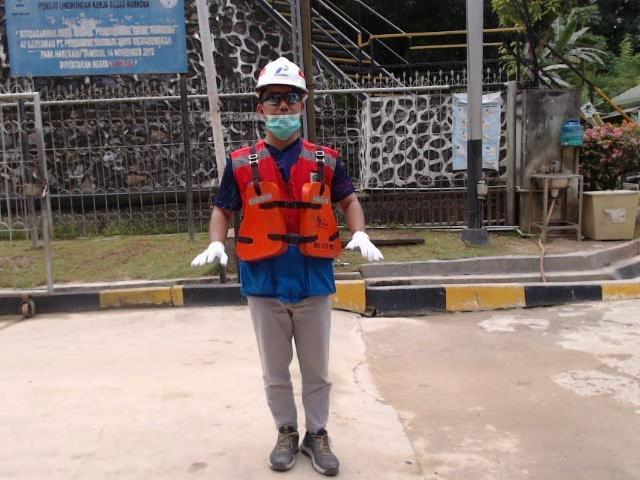vest: (236, 180, 346, 266)
